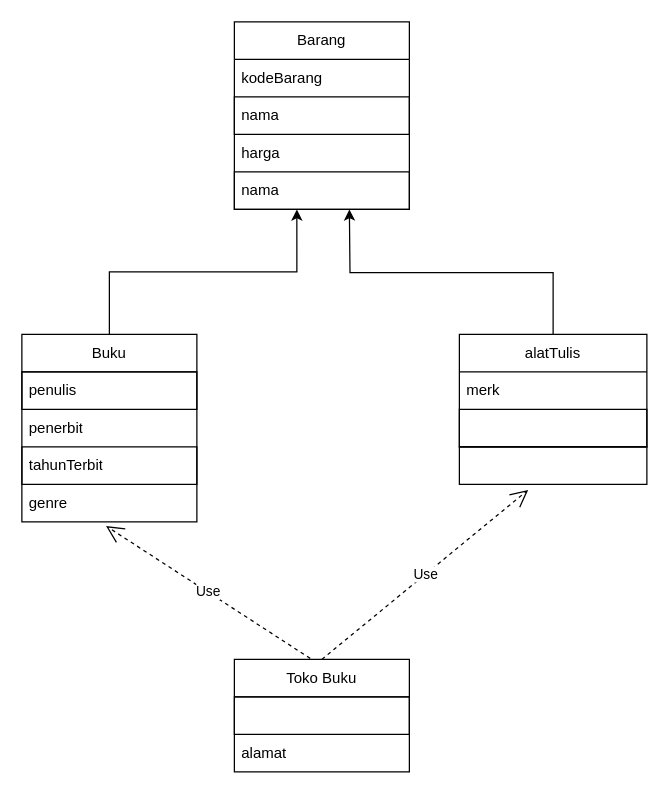
Image size: 669x794. Some labels were removed from this diagram. Here are the shapes that lost their labels. From the top down, the centre of each, then its label:
[552,427]: jenis
[552,465]: warna
[321,715]: namaToko
